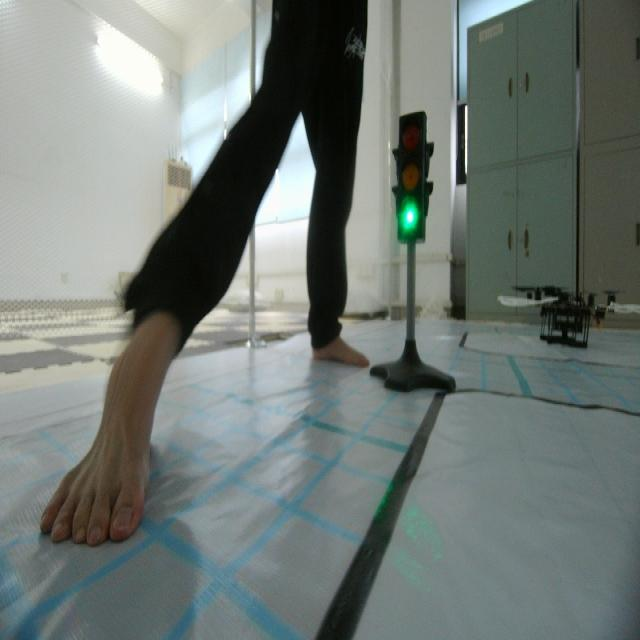green: (390, 108, 434, 248)
